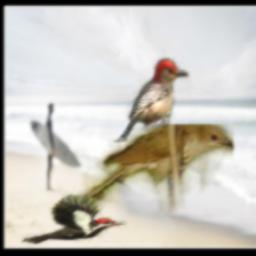Cuckoo: (59, 125, 233, 221)
Woodpecker: (115, 57, 189, 142), (23, 194, 127, 244)
